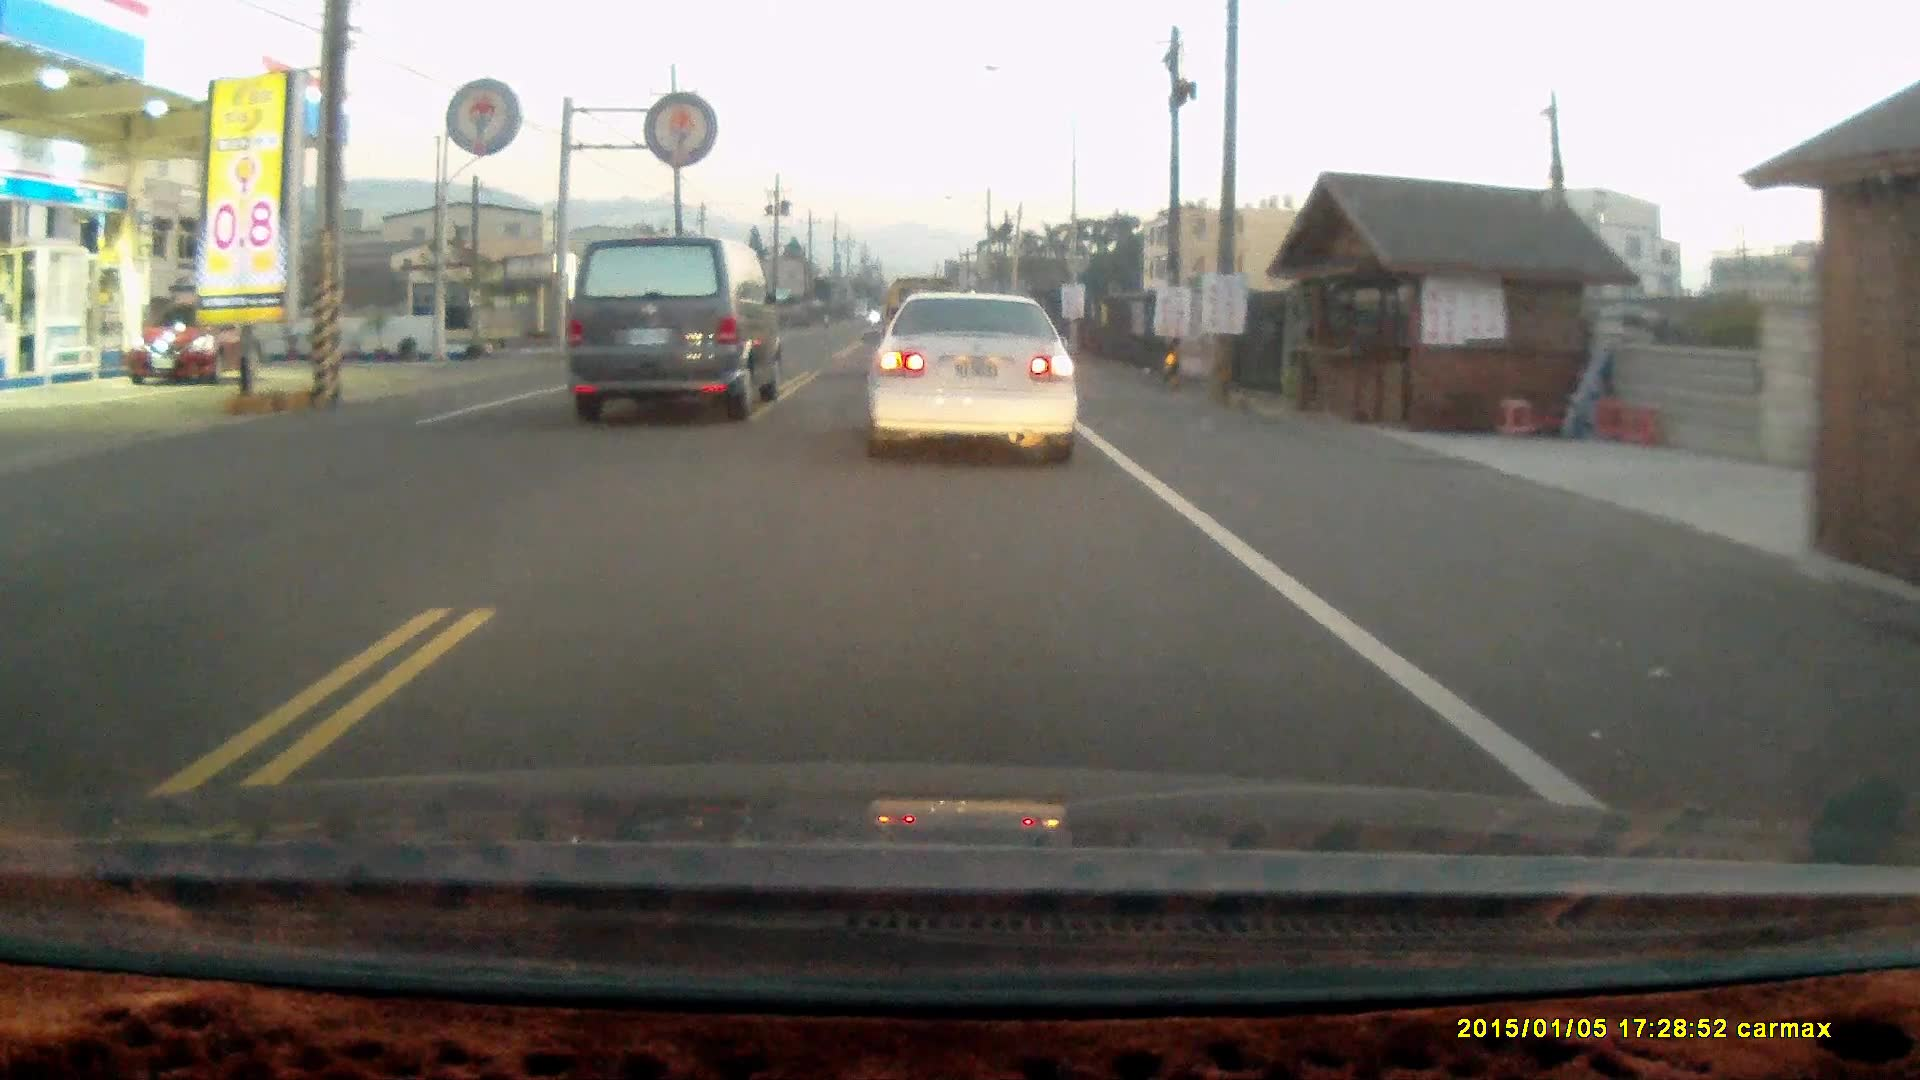vehicle: (862, 284, 1091, 464), (564, 235, 781, 417), (127, 293, 262, 386)
